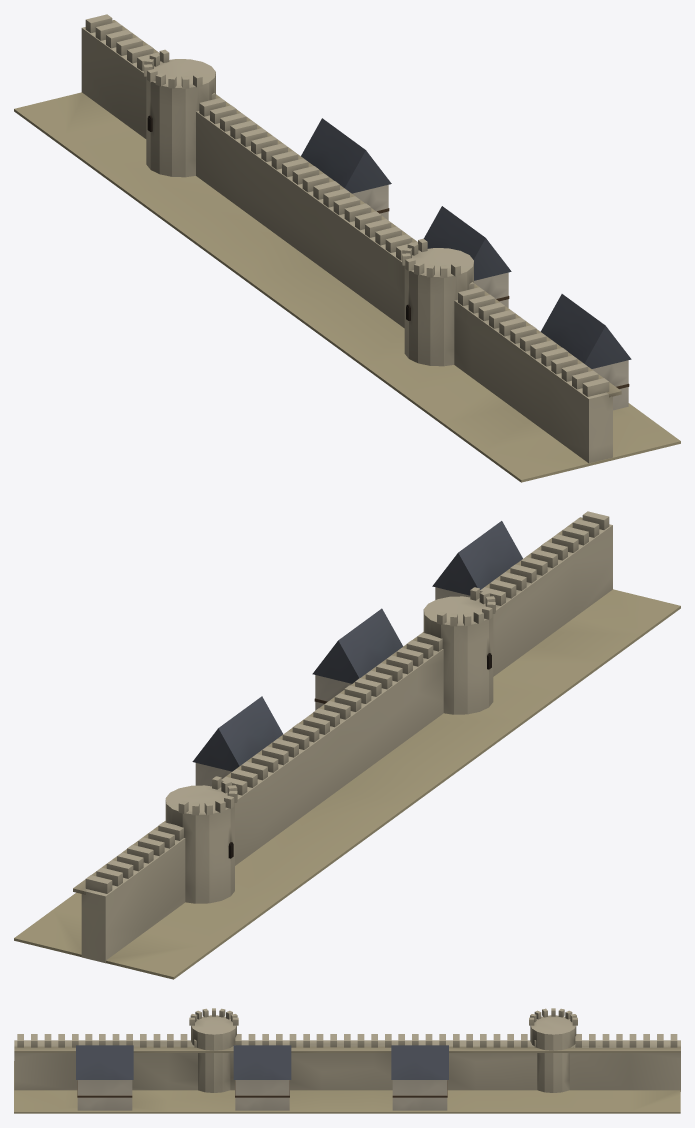
Rendered from philippe-wall.glb.
The picture shows the model from 3 angles, top to bottom: view 1: azimuth 30°, elevation 25°; view 2: azimuth 150°, elevation 25°; view 3: azimuth 270°, elevation 25°; orthographic projection. The views are drawn at different scales.
Visible parts, largest first — view 1: p0_wall, p1_towers; view 2: p0_wall, p1_towers; view 3: p0_wall, p1_towers.
Part boxes in pixels (x1,y1,x2,y2): p0_wall: (14, 14, 680, 482); p1_towers: (143, 49, 631, 410); p0_wall: (14, 511, 680, 979); p1_towers: (165, 521, 522, 903); p0_wall: (14, 1034, 680, 1113); p1_towers: (76, 1008, 577, 1110).
Size of the model in its own units: 20 by 12.14 by 110.
